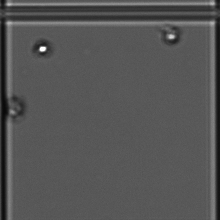Dead Cell: (10, 94, 26, 121)
Living Cell: (33, 36, 55, 58), (158, 27, 182, 44)
